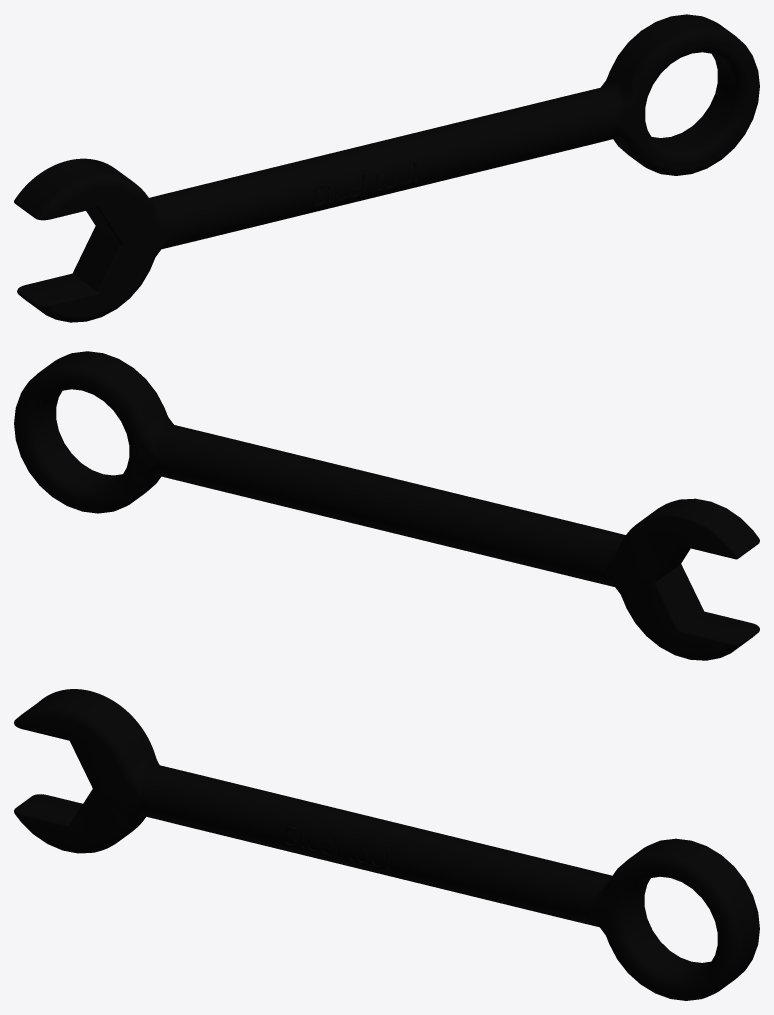
File: wrench.glb
3 views of the same model, one above another, from view 1: azimuth 30°, elevation 25°; view 2: azimuth 150°, elevation 25°; view 3: azimuth 330°, elevation 25° (orthographic).
Visible parts, largest first — view 1: node_id865_25, node_id1662_50; view 2: node_id865_25; view 3: node_id865_25, node_id1662_50.
Part boxes in pixels (left/top/right/bottom): node_id865_25: left=14, top=14, right=759, bottom=322; node_id1662_50: left=313, top=161, right=416, bottom=206; node_id865_25: left=14, top=351, right=759, bottom=660; node_id865_25: left=14, top=689, right=759, bottom=1000; node_id1662_50: left=285, top=826, right=389, bottom=870.
Size of the model in its own units: 0.5345 by 0.102 by 0.0344.
2 materials, 2 textured.
